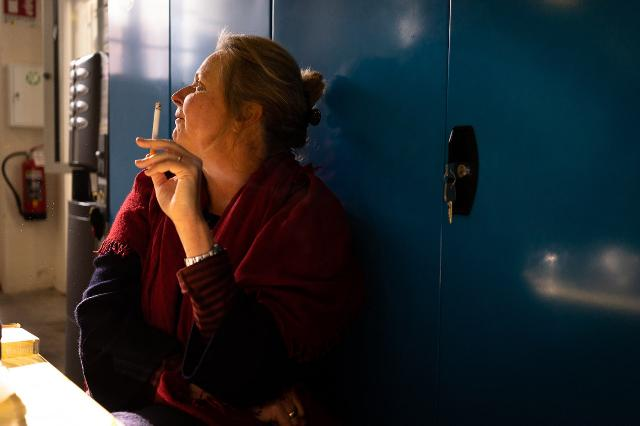Cigarette: (150, 98, 162, 158)
